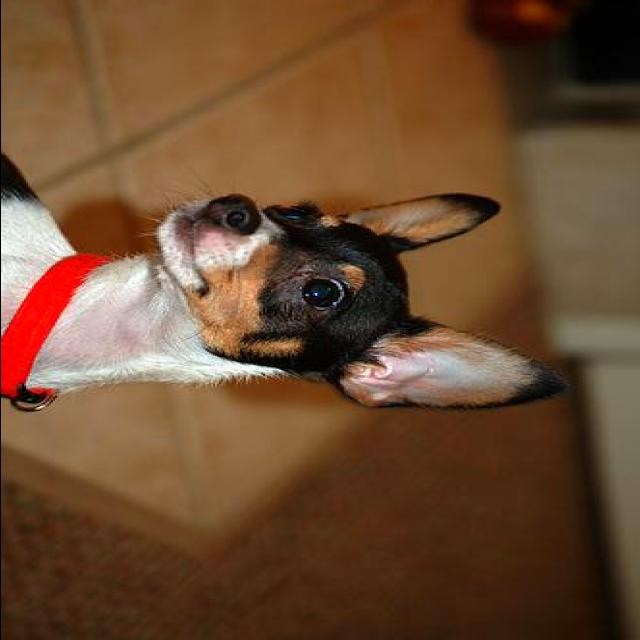toy_terrier: (2, 151, 568, 415)
